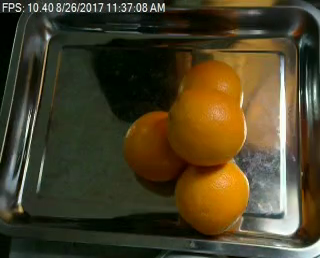Orange: (168, 85, 247, 166), (175, 163, 249, 232), (122, 109, 185, 181), (179, 60, 243, 122)
